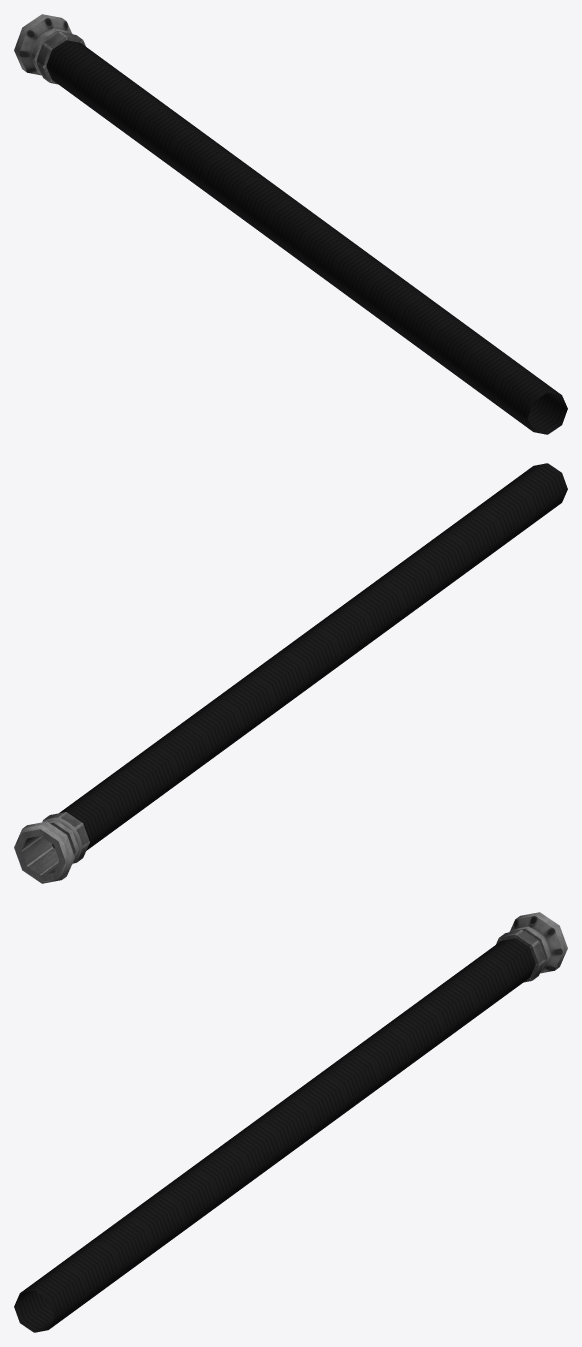
Rendered from dispenser.fbx.
3 views of the same model, one above another, from view 1: azimuth 30°, elevation 25°; view 2: azimuth 150°, elevation 25°; view 3: azimuth 330°, elevation 25° (orthographic).
Parts seen in each view (by area): view 1: DispTube_002, DispTube_001, DispTube, Disp; view 2: DispTube_001, DispTube_002, DispTube, Disp; view 3: DispTube_002, DispTube_001, DispTube, Disp.
Part boxes in pixels (left/top/right/bottom): DispTube_002: left=365, top=273, right=567, bottom=434; DispTube_001: left=203, top=155, right=398, bottom=312; DispTube: left=46, top=40, right=236, bottom=193; Disp: left=14, top=14, right=85, bottom=84; DispTube_001: left=209, top=582, right=405, bottom=739; DispTube_002: left=371, top=463, right=567, bottom=620; DispTube: left=52, top=701, right=242, bottom=850; Disp: left=14, top=812, right=89, bottom=883; DispTube_002: left=14, top=1171, right=216, bottom=1332; DispTube_001: left=183, top=1053, right=378, bottom=1210; DispTube: left=345, top=938, right=535, bottom=1091; Disp: left=496, top=912, right=567, bottom=982.
Bounding box in the file's own units: 8 × 8 × 125.
Materials: 2 (2 with a texture image).
